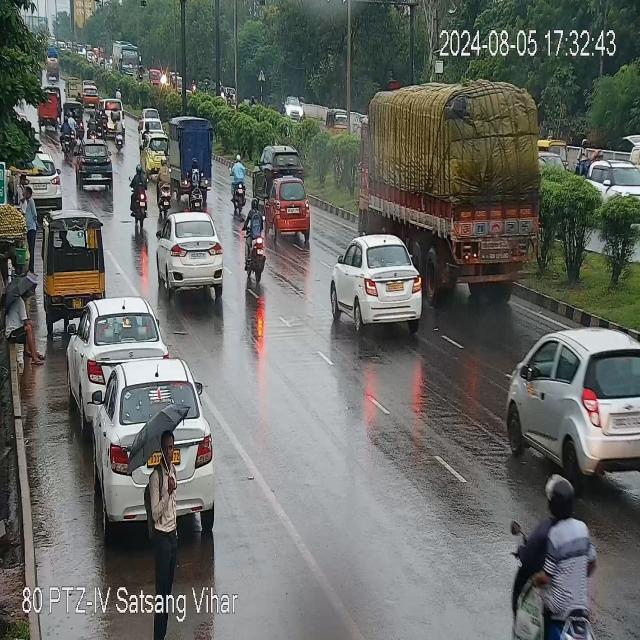2-wheelers: (509, 482, 603, 640), (238, 201, 266, 290), (129, 164, 151, 226), (230, 153, 250, 210), (60, 110, 82, 155), (189, 158, 204, 210), (157, 155, 170, 215), (114, 113, 123, 150), (86, 112, 96, 142), (100, 106, 110, 135), (95, 109, 102, 136), (116, 86, 122, 98), (77, 91, 83, 102)
auto: (41, 213, 107, 315), (38, 95, 58, 129)
car: (508, 330, 639, 474), (88, 359, 205, 471), (328, 234, 426, 334), (72, 296, 164, 402), (158, 214, 230, 300), (267, 178, 313, 240), (587, 156, 640, 203), (14, 156, 63, 203), (73, 142, 113, 190), (143, 134, 165, 168), (140, 118, 163, 145), (138, 106, 154, 129), (81, 85, 98, 105)
pedestrian: (144, 412, 181, 523), (5, 288, 48, 367), (25, 182, 38, 269), (19, 170, 25, 202)
truck: (355, 76, 548, 300), (170, 120, 213, 195), (65, 76, 83, 104)
